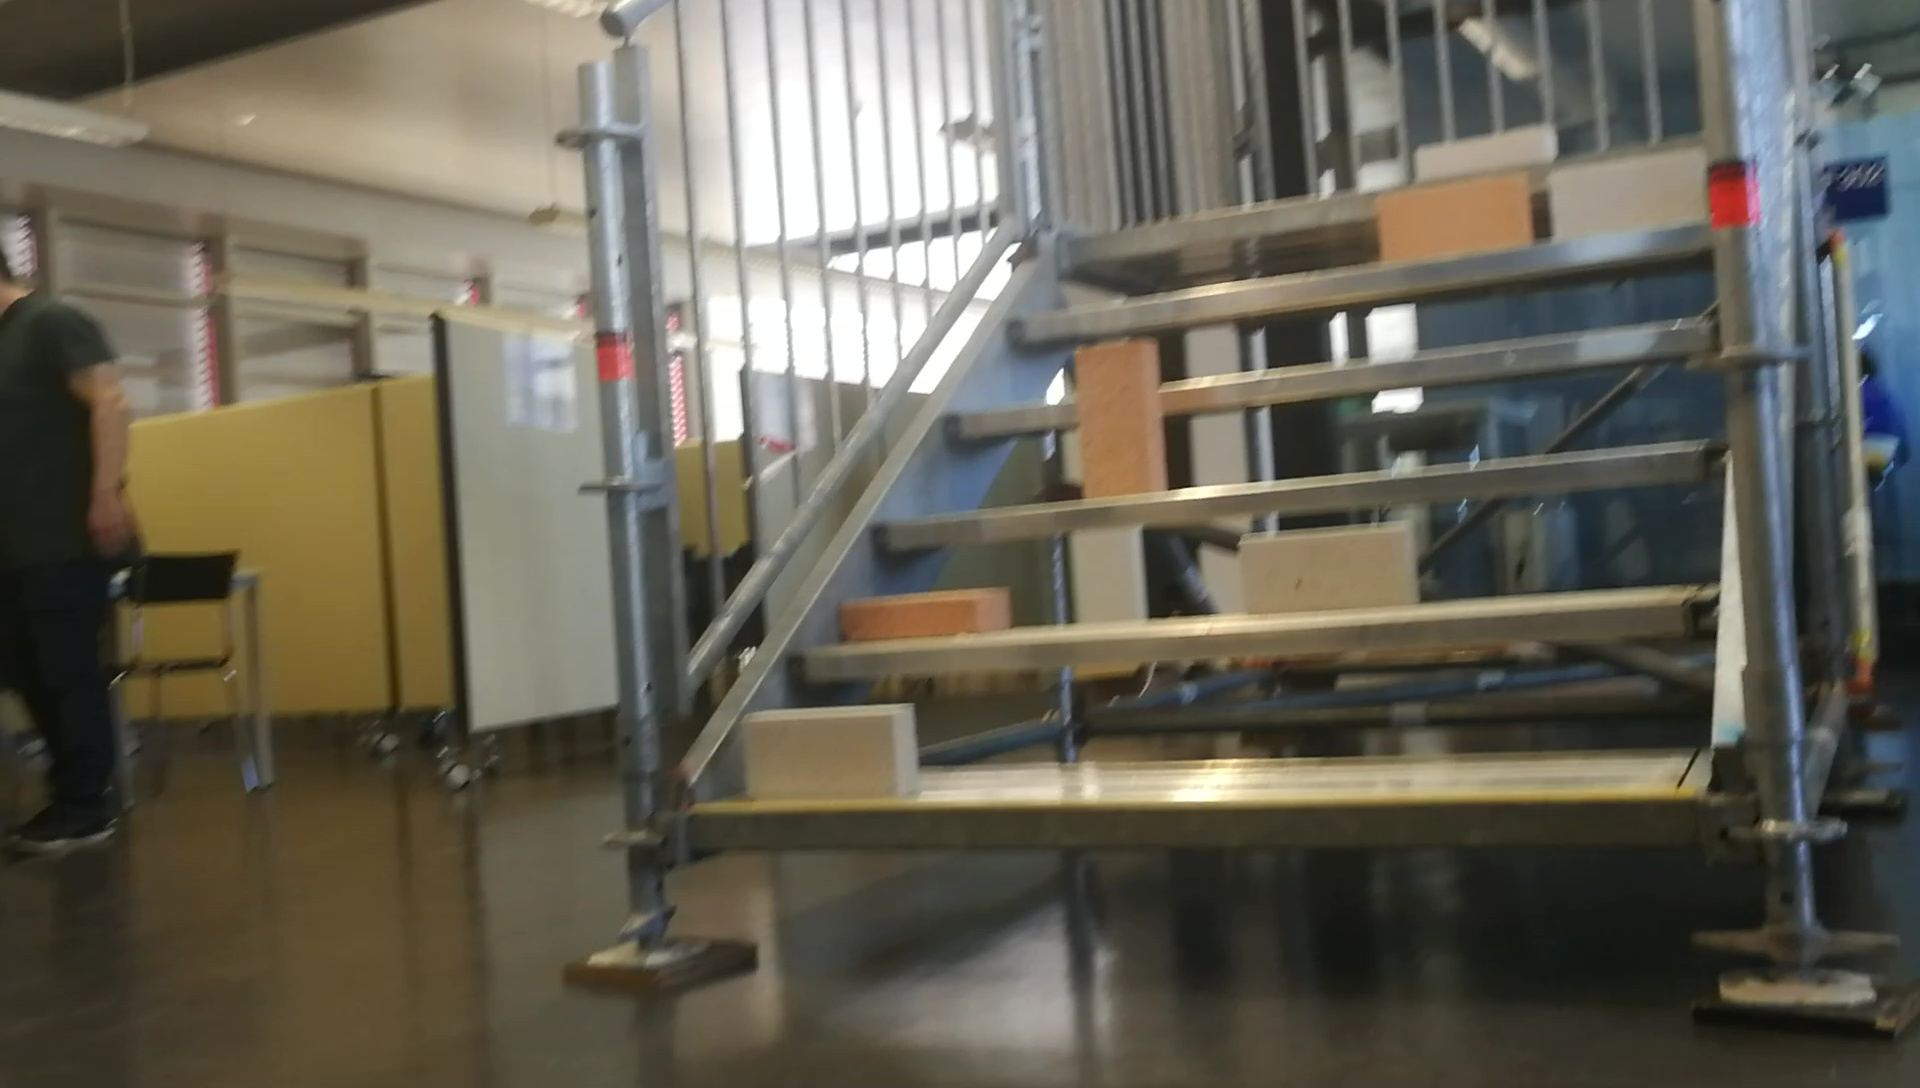brick: (1242, 528, 1415, 616), (745, 706, 913, 795), (1077, 342, 1160, 495), (1379, 175, 1527, 258), (1552, 153, 1702, 233), (840, 588, 1007, 638), (1415, 128, 1552, 175)
edge: (949, 320, 1716, 448), (877, 444, 1727, 549), (1015, 229, 1705, 338), (795, 599, 1722, 677), (688, 795, 1705, 849)
stairs: (559, 3, 1800, 1037)
steps: (678, 123, 1727, 868)
